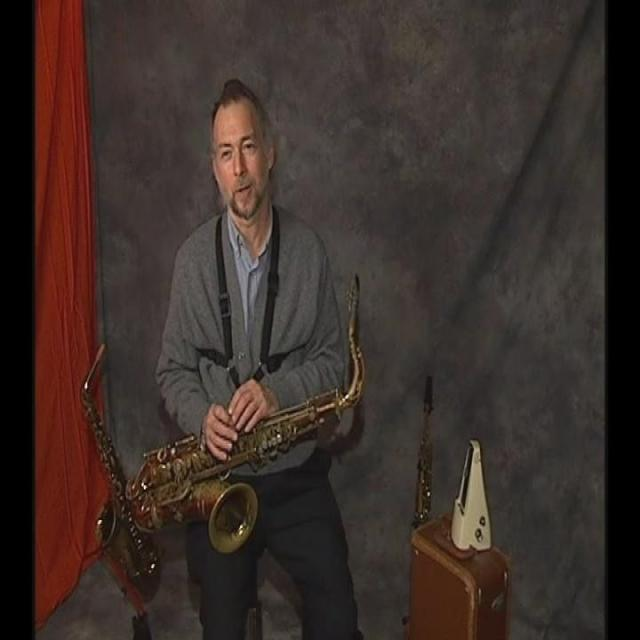saxophone: (126, 272, 368, 556), (77, 341, 164, 604)
